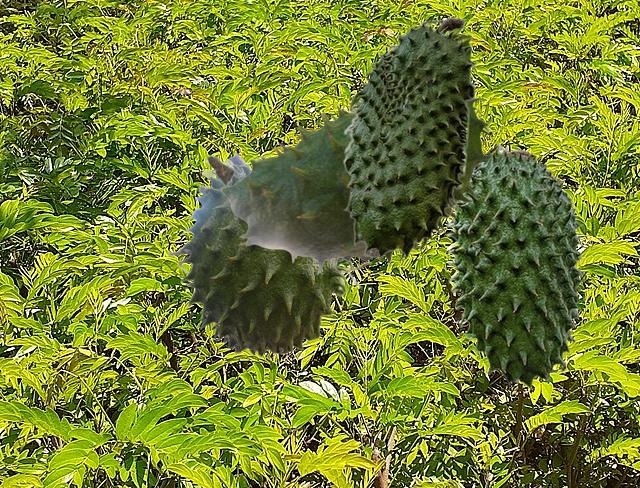guyabano: (206, 96, 492, 274), (167, 152, 371, 357), (445, 142, 585, 388), (342, 16, 476, 258)
